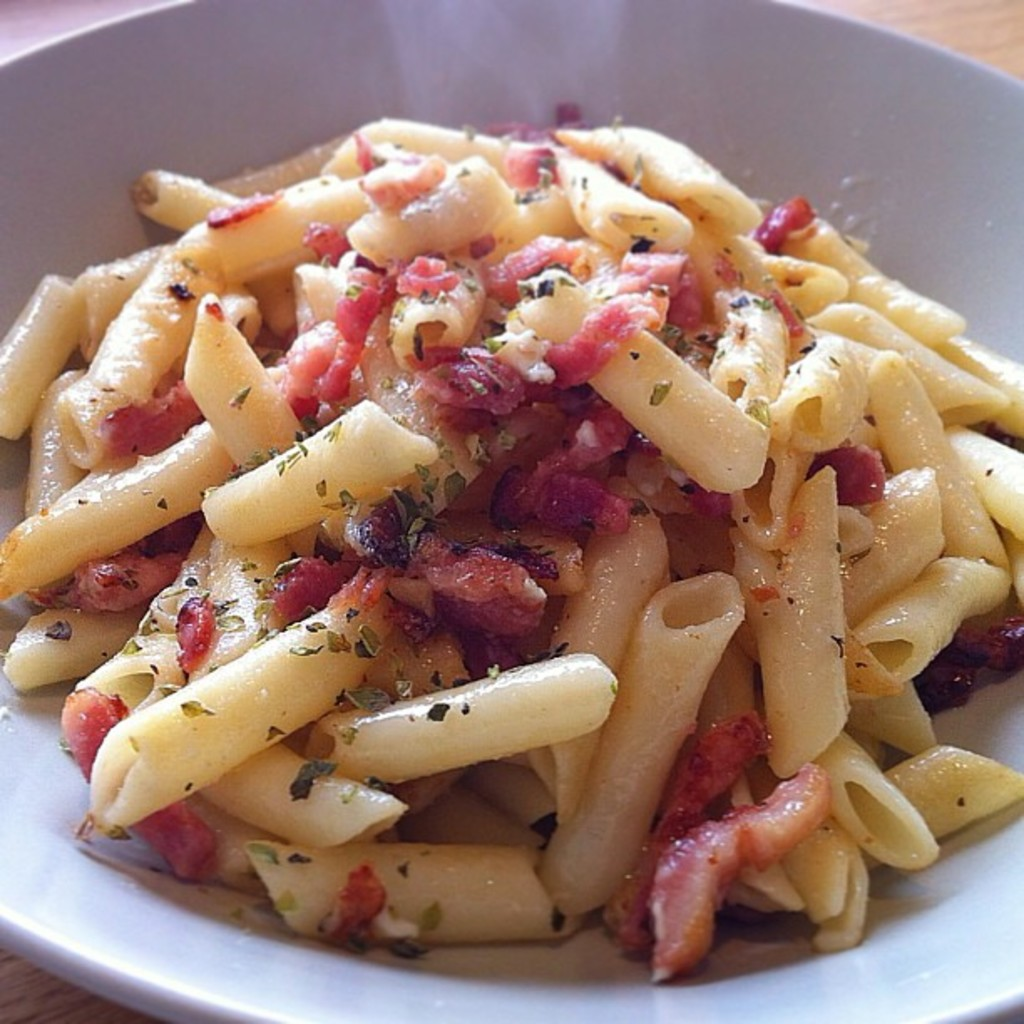pasta: (0, 67, 1024, 989)
